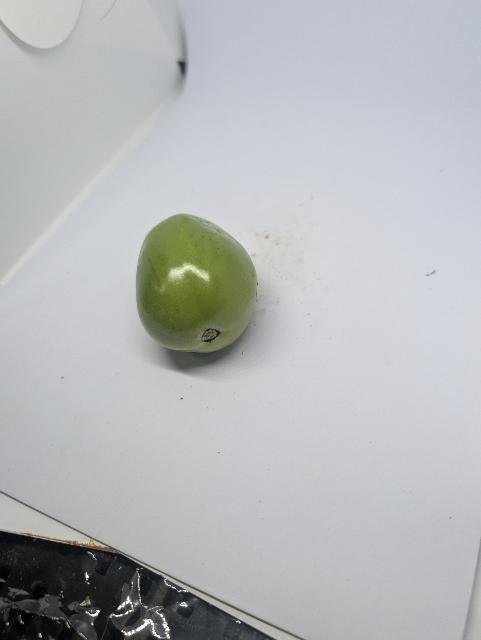green: (125, 198, 273, 373)
